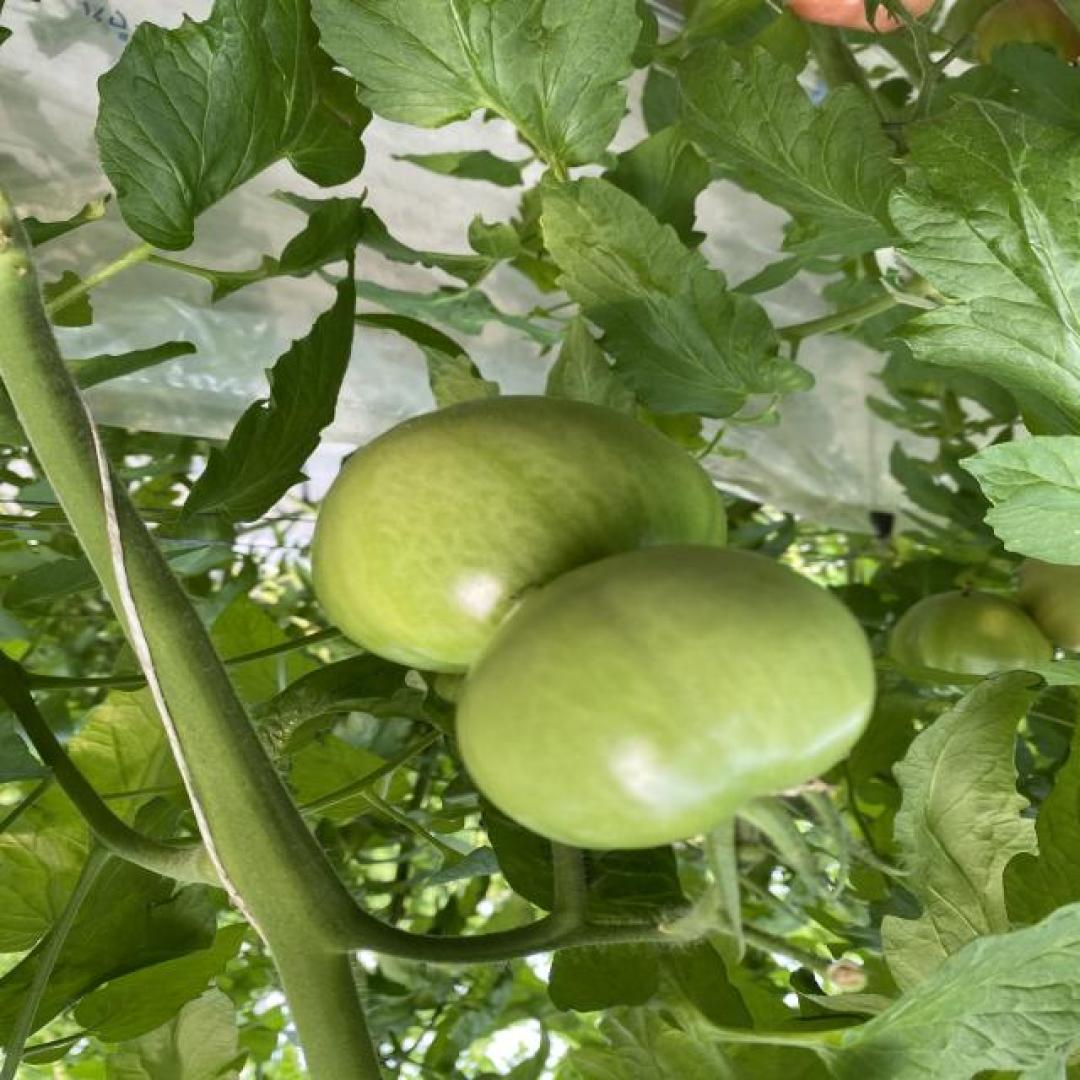mentah: (452, 542, 878, 851), (304, 392, 734, 676)
